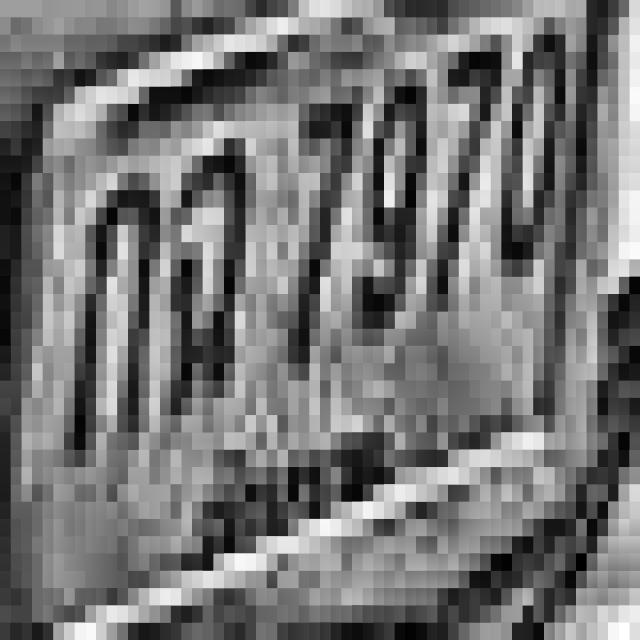license-plate: (27, 0, 617, 640)
